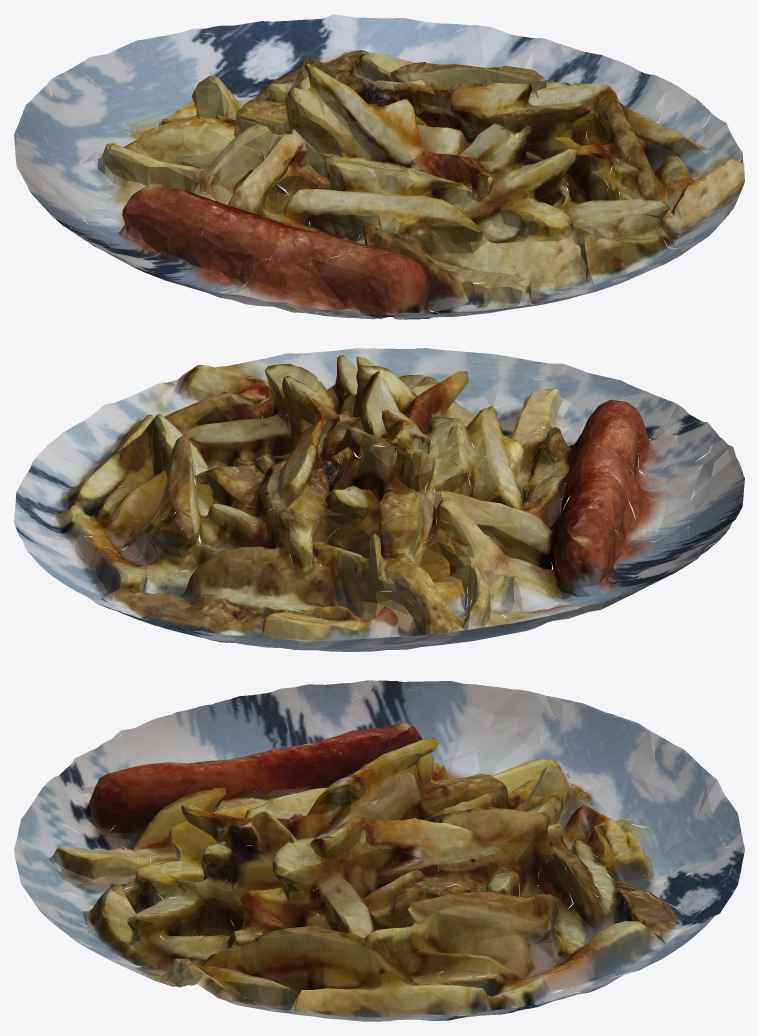
File: salchipapa-1.glb
3 renders of one model, top to bottom at view 1: azimuth 30°, elevation 25°; view 2: azimuth 150°, elevation 25°; view 3: azimuth 270°, elevation 25°, orthographic.
Parts seen in each view (by area): view 1: Mesh_0; view 2: Mesh_0; view 3: Mesh_0.
Part boxes in pixels (x1,y1,x2,y2): Mesh_0: (14,14,744,319); Mesh_0: (14,348,744,651); Mesh_0: (14,680,744,1021).
Size of the model in its own units: 11.94 by 2.77 by 11.94.
Materials: 2 (2 with a texture image).
